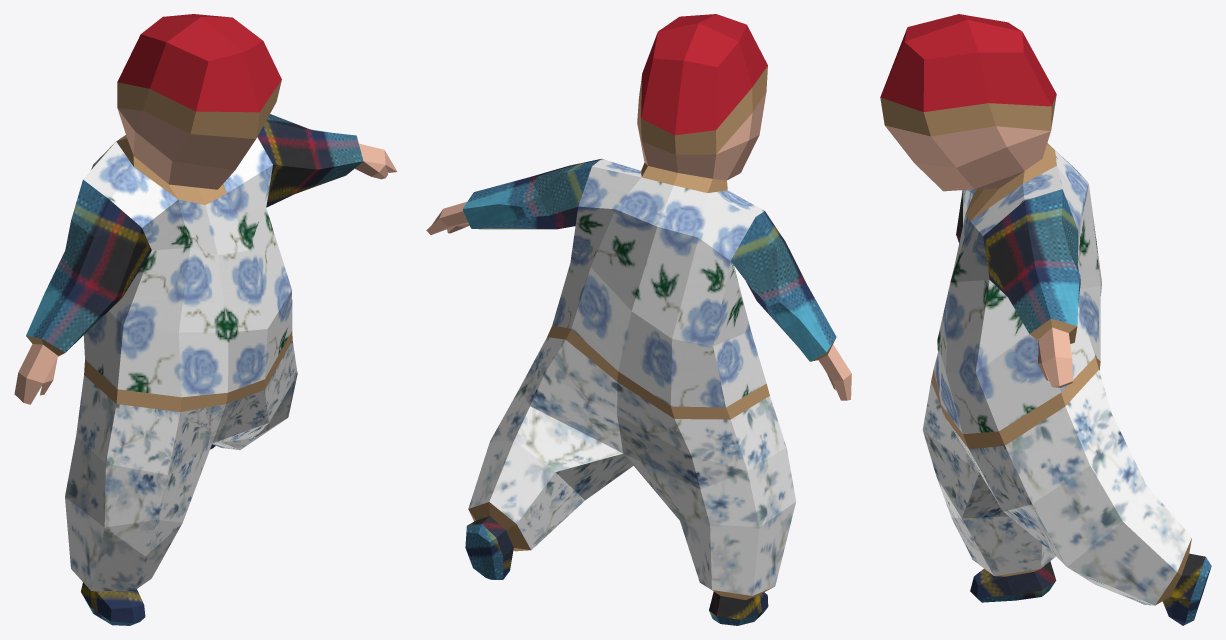
File: SpringBaby.002.glb
3 renders of one model, left to right at view 1: azimuth 30°, elevation 25°; view 2: azimuth 150°, elevation 25°; view 3: azimuth 270°, elevation 25°, orthographic. The views are drawn at different scales.
Visible parts, largest first — view 1: SpringBaby.002; view 2: SpringBaby.002; view 3: SpringBaby.002.
Part boxes in pixels (<box>): SpringBaby.002: <box>14,14,397,625</box>; SpringBaby.002: <box>426,14,851,625</box>; SpringBaby.002: <box>880,14,1211,625</box>.
Size of the model in its own units: 0.4244 by 0.5898 by 0.2903.
Materials: 1 (1 with a texture image).
